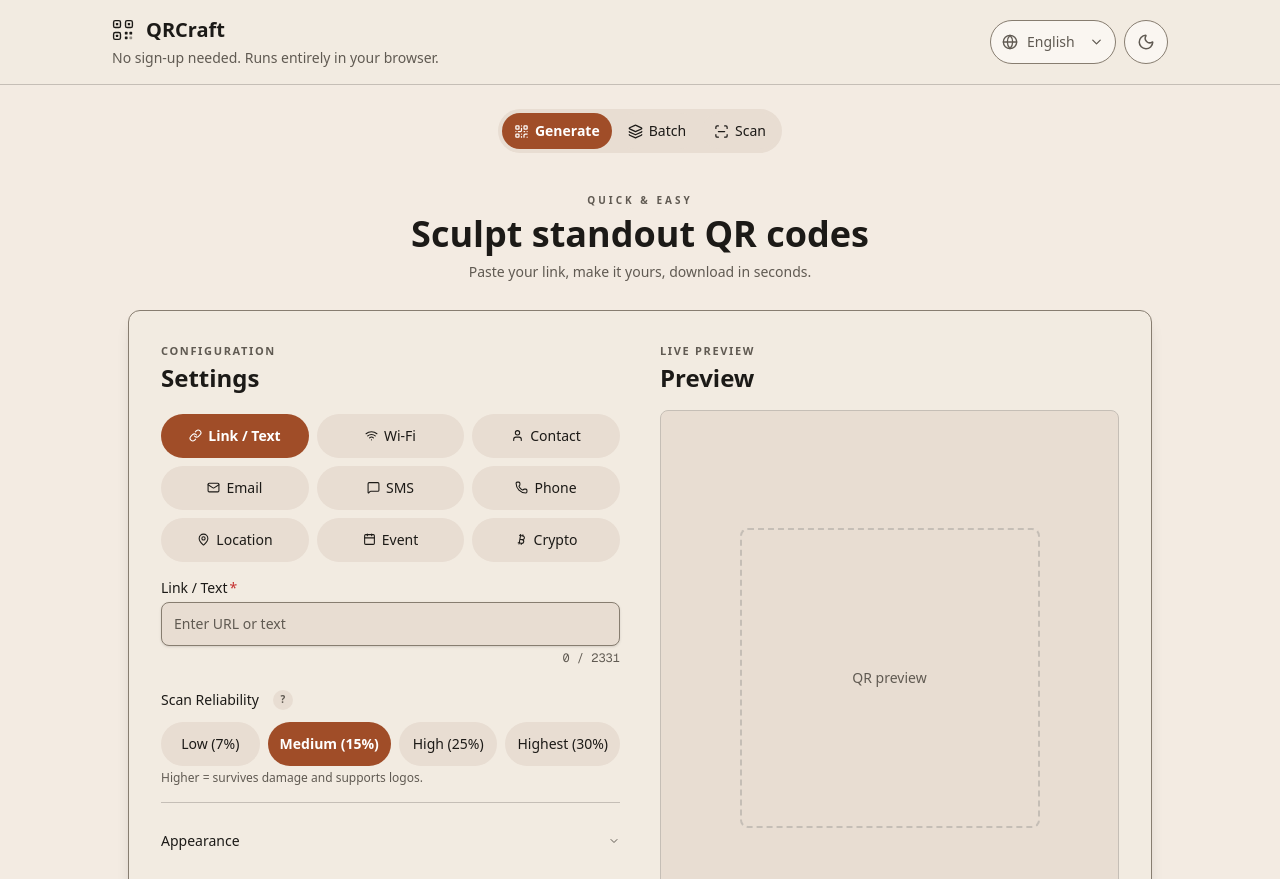
Test: App integration › switches between the Generate and Scan views via the toggle
Expected: the heading "Sculpt standout QR codes" is shown, [411, 209, 869, 258]
// The Scan view is lazy-loaded, so it resolves through a Suspense boundary.
Click the button "Scan" at (740, 131), box [702, 113, 778, 149]
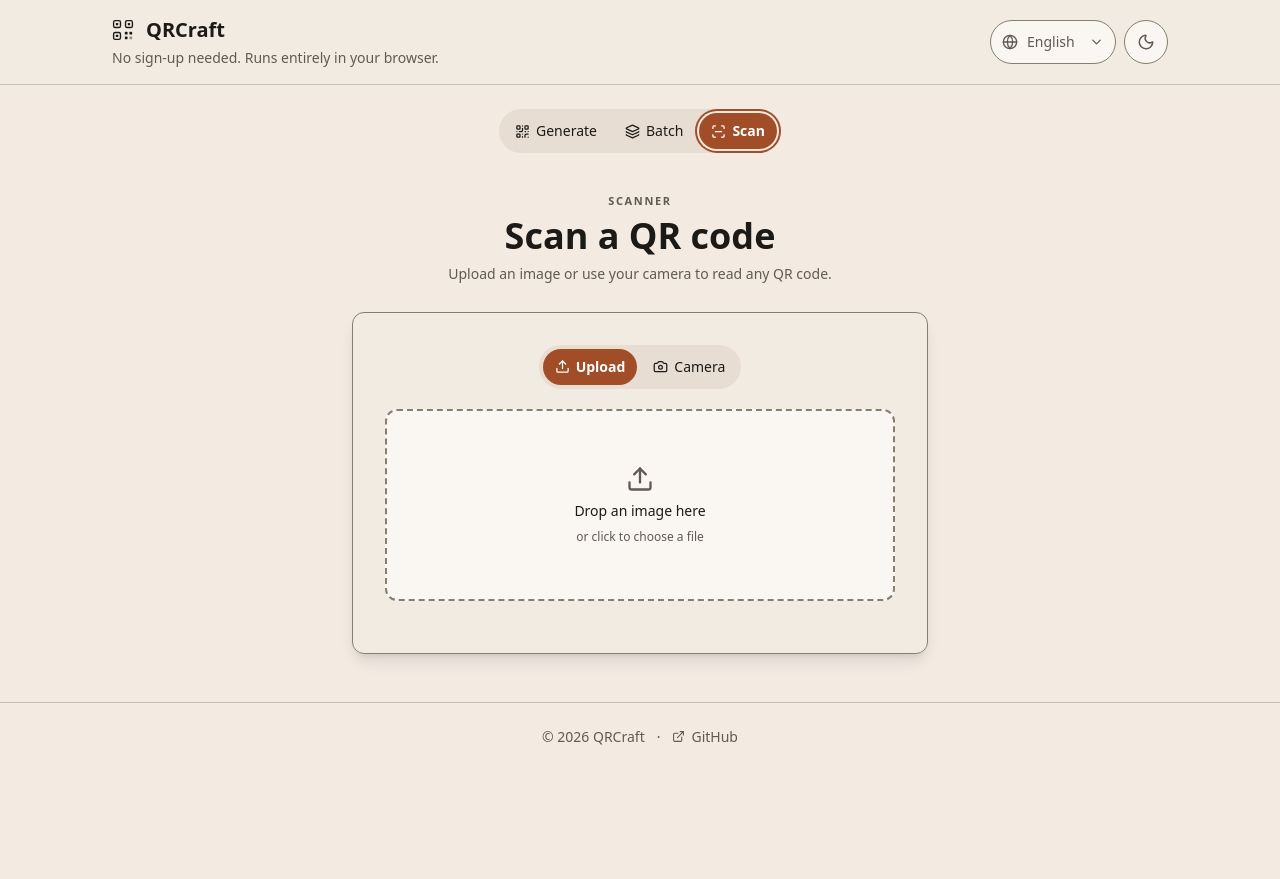
Now the heading "Scan a QR code" is shown, box [505, 210, 775, 260]
Click the button "Generate" at (556, 131), box [503, 113, 609, 149]
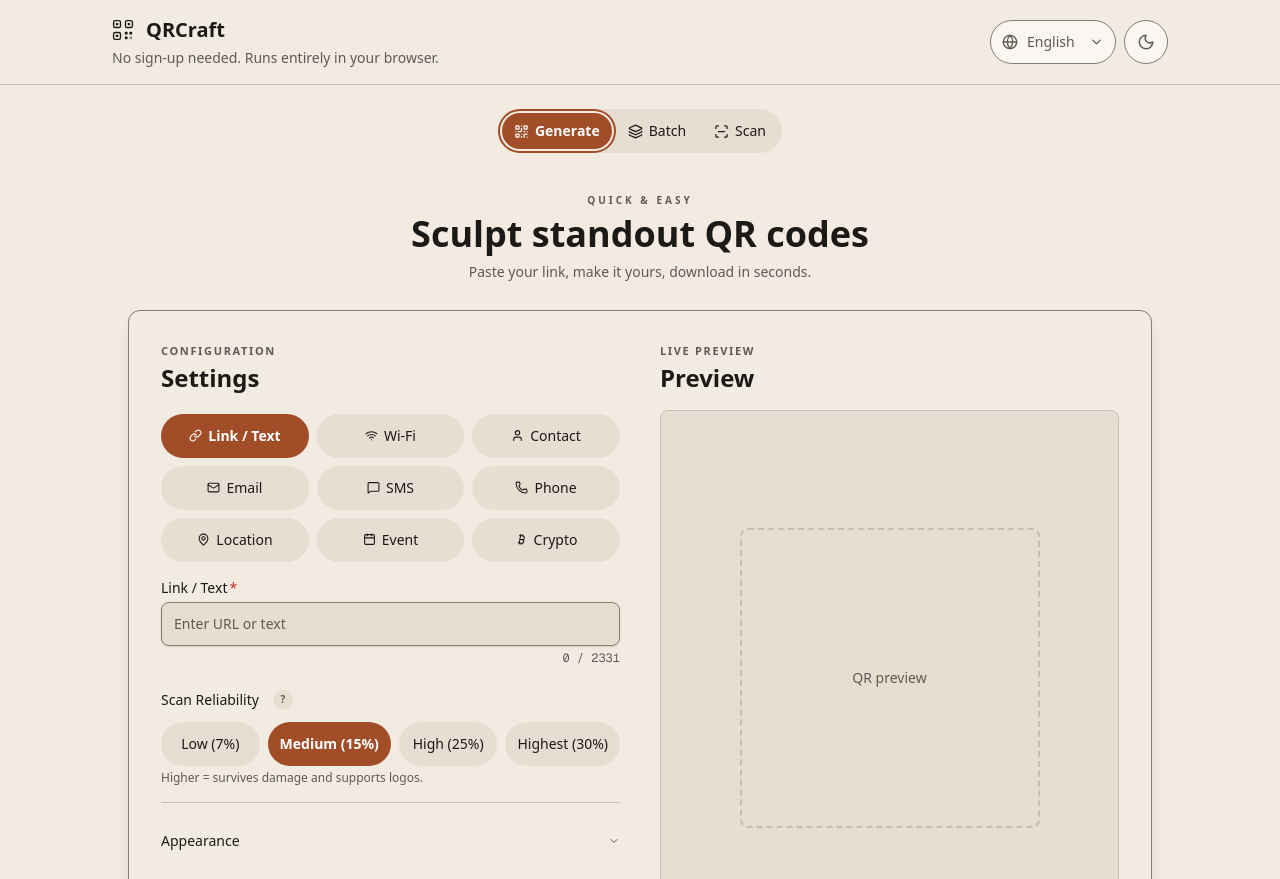
Now the heading "Scan a QR code" is gone
Now the heading "Sculpt standout QR codes" is shown, box [411, 209, 869, 258]
